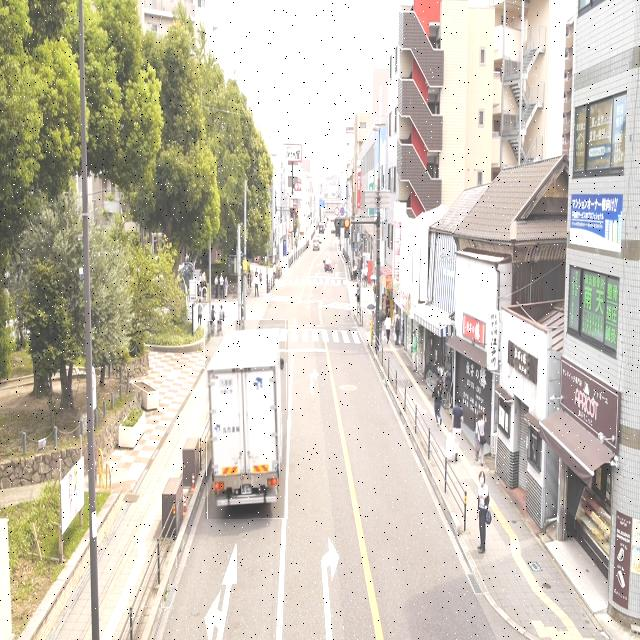Truck: (205, 320, 288, 519)
